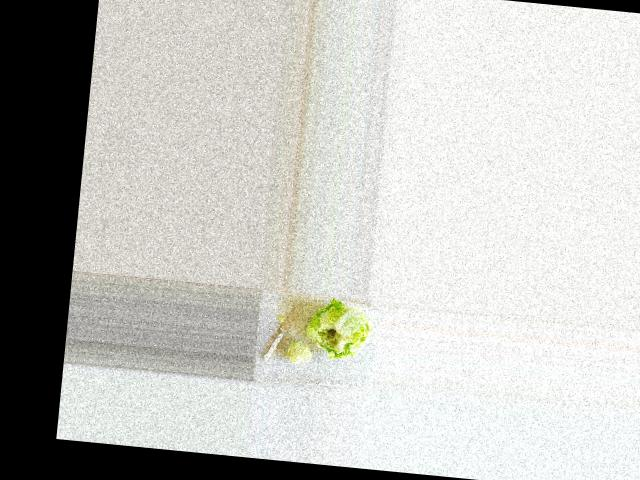lettuce: (310, 300, 377, 362)
